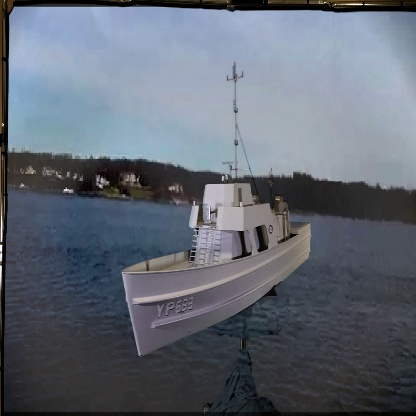YP689: (119, 63, 313, 359)
